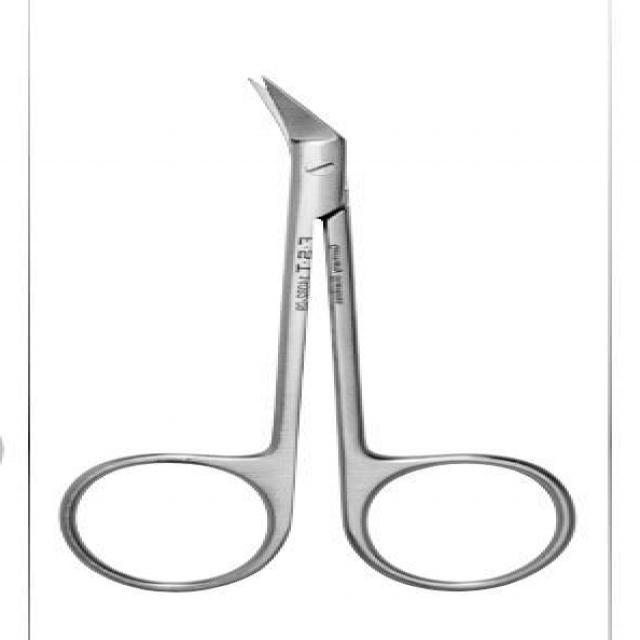Potts: (49, 71, 580, 598)
